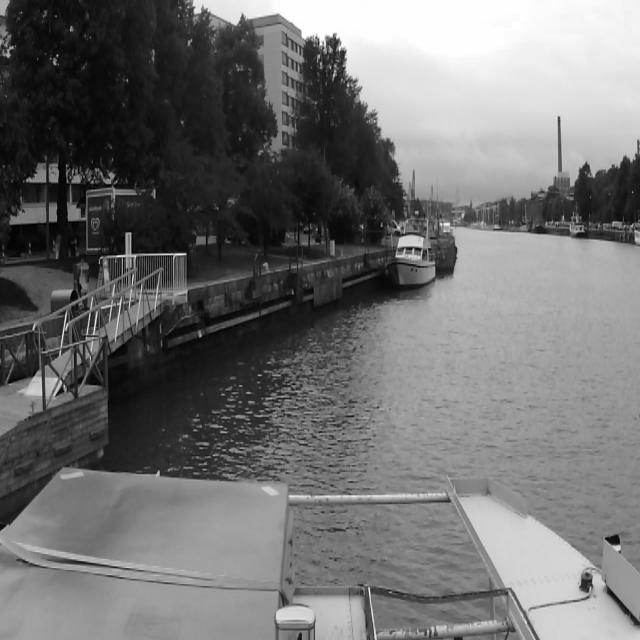ship: (388, 228, 442, 294), (569, 208, 585, 237)
